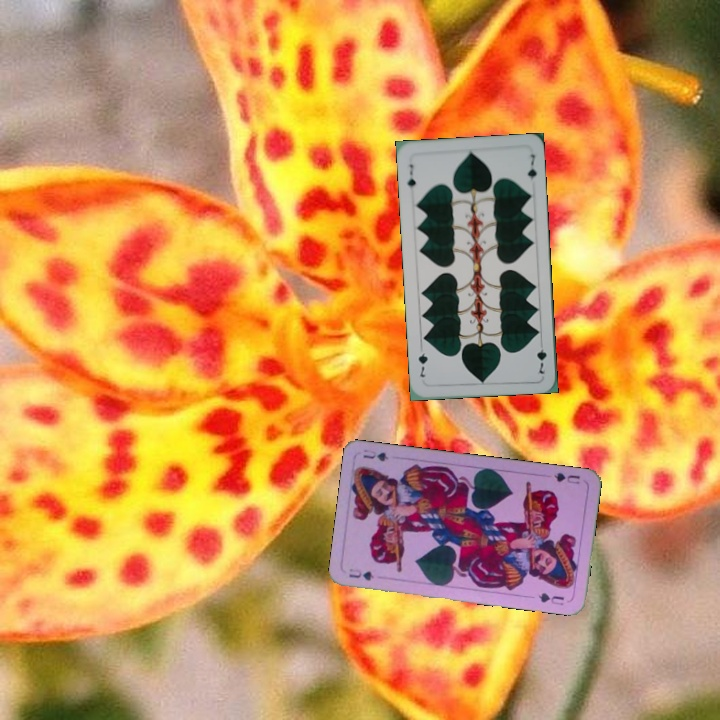G7: (533, 336, 549, 376), (403, 160, 418, 190)
GU: (345, 564, 376, 583), (550, 468, 582, 486)
